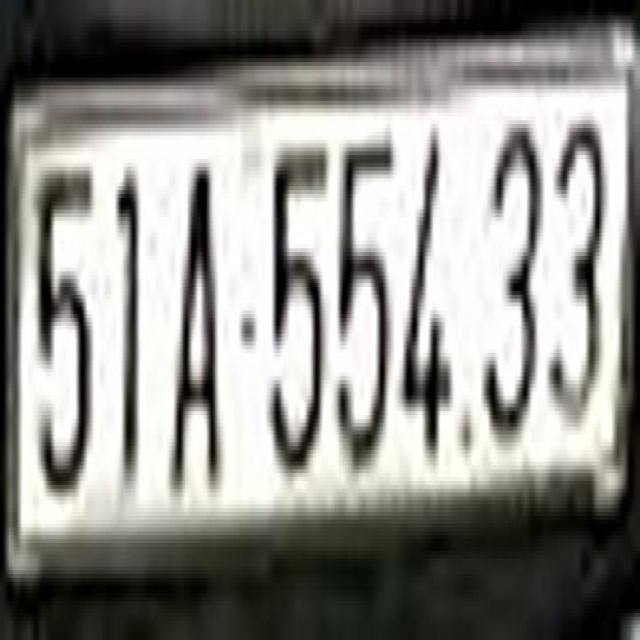1: (113, 159, 144, 477)
3: (552, 93, 605, 454), (487, 124, 538, 446)
4: (407, 97, 455, 462)
5: (268, 108, 326, 466), (38, 159, 96, 489), (343, 120, 394, 466)
A: (170, 140, 222, 497)
